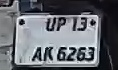1: (71, 15, 79, 34)
2: (65, 45, 78, 63)
3: (77, 16, 90, 33), (85, 46, 96, 62)
6: (55, 46, 68, 63), (76, 46, 86, 62)
A: (32, 45, 44, 64)
K: (42, 45, 54, 64)
P: (55, 16, 65, 35)
U: (44, 16, 57, 33)
